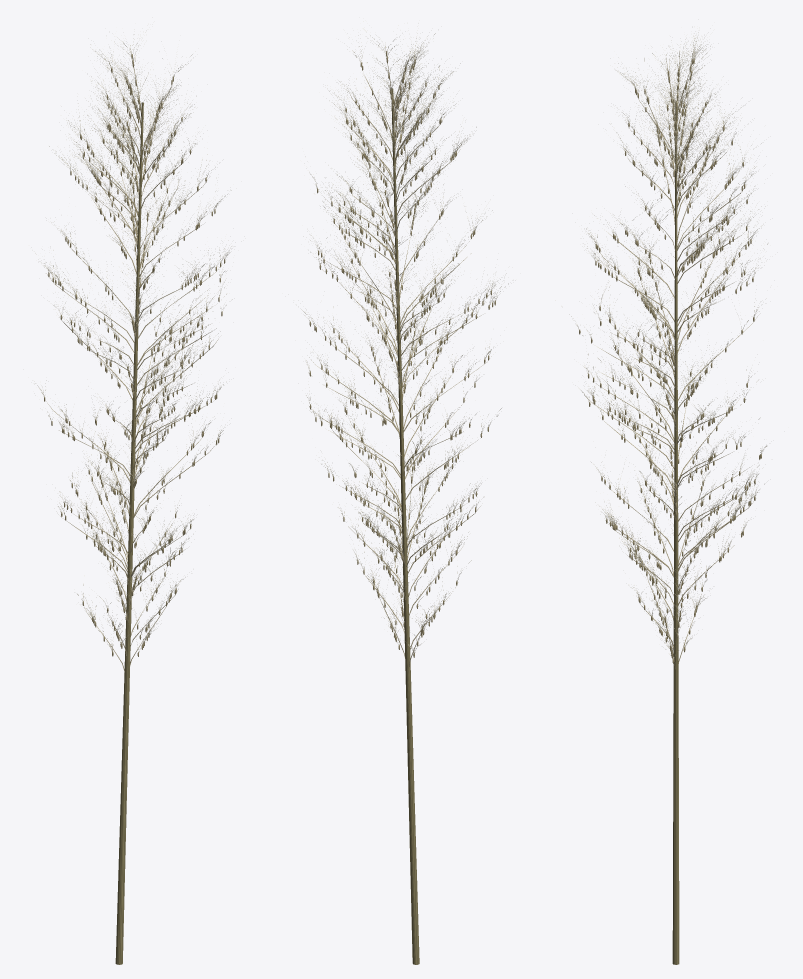
File: saccharum-detail.glb
3 views of the same model, side by side, from view 1: azimuth 30°, elevation 25°; view 2: azimuth 150°, elevation 25°; view 3: azimuth 270°, elevation 25° (orthographic).
Parts seen in each view (by area): view 1: silky-hairs, panicle, spikelet, stem; view 2: silky-hairs, panicle, spikelet, stem; view 3: silky-hairs, spikelet, panicle, stem.
Part boxes in pixels (<box>): silky-hairs: <box>34,29,232,652</box>; panicle: <box>46,45,226,671</box>; spikelet: <box>44,54,225,656</box>; stem: <box>115,102,143,964</box>; silky-hairs: <box>301,21,508,653</box>; panicle: <box>308,47,491,666</box>; spikelet: <box>309,51,495,657</box>; stem: <box>391,88,419,964</box>; silky-hairs: <box>555,32,768,658</box>; spikelet: <box>579,59,761,663</box>; panicle: <box>582,49,757,668</box>; stem: <box>672,106,679,964</box>.
Bounding box in the file's own units: 0.1274 × 0.5657 × 0.1293.
3 materials, 1 textured.
